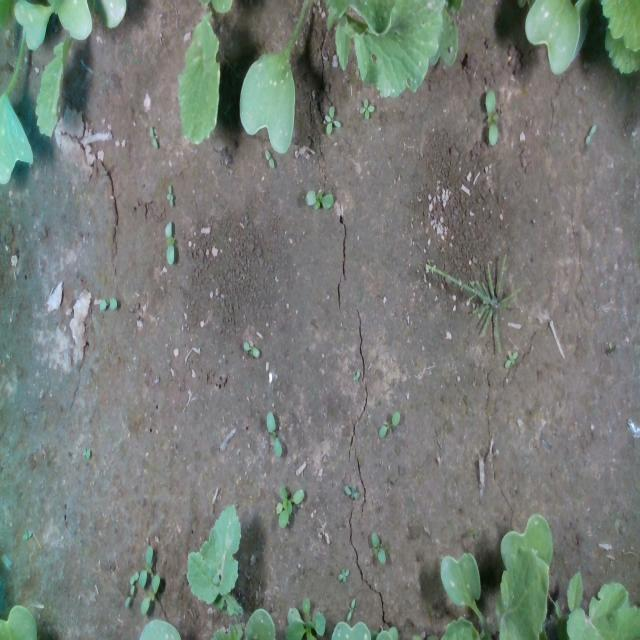weed: (484, 87, 499, 147), (266, 411, 282, 457), (304, 188, 334, 210), (378, 409, 400, 437), (323, 103, 341, 134), (163, 219, 174, 265), (242, 338, 260, 358), (358, 98, 374, 120), (503, 348, 518, 368), (584, 122, 596, 146), (99, 295, 117, 310), (148, 124, 158, 150), (165, 182, 173, 207), (264, 148, 274, 168)
